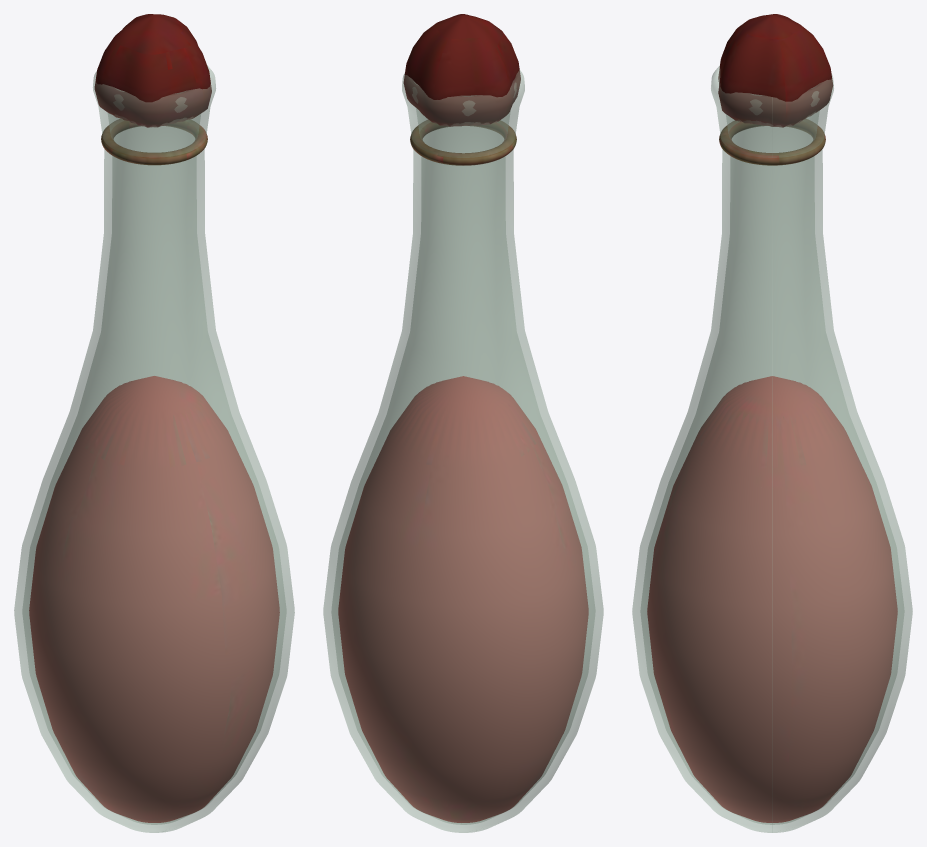
File: st_johns_oil.glb
3 views of the same model, side by side, from view 1: azimuth 30°, elevation 25°; view 2: azimuth 150°, elevation 25°; view 3: azimuth 270°, elevation 25° (orthographic).
Visible parts, largest first — view 1: glass, st_johns_oil; view 2: glass, st_johns_oil; view 3: glass, st_johns_oil.
Part boxes in pixels (<box>): glass: <box>14,65,294,832</box>; st_johns_oil: <box>29,14,279,822</box>; glass: <box>323,70,603,832</box>; st_johns_oil: <box>338,14,588,822</box>; glass: <box>632,65,912,832</box>; st_johns_oil: <box>647,14,897,822</box>.
Size of the model in its own units: 0.0533 by 0.1707 by 0.0533.
Materials: 2 (1 with a texture image).
